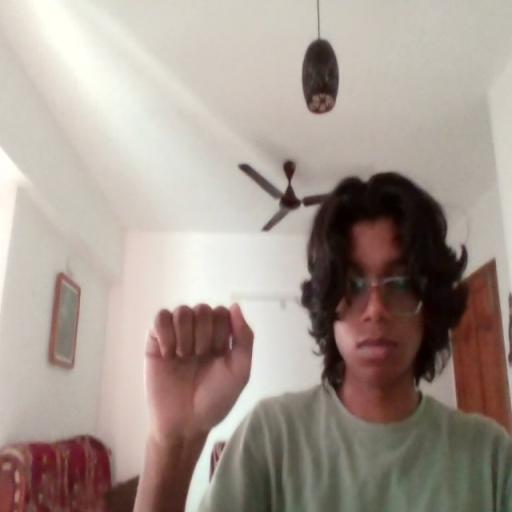Rock: (141, 294, 257, 431)
